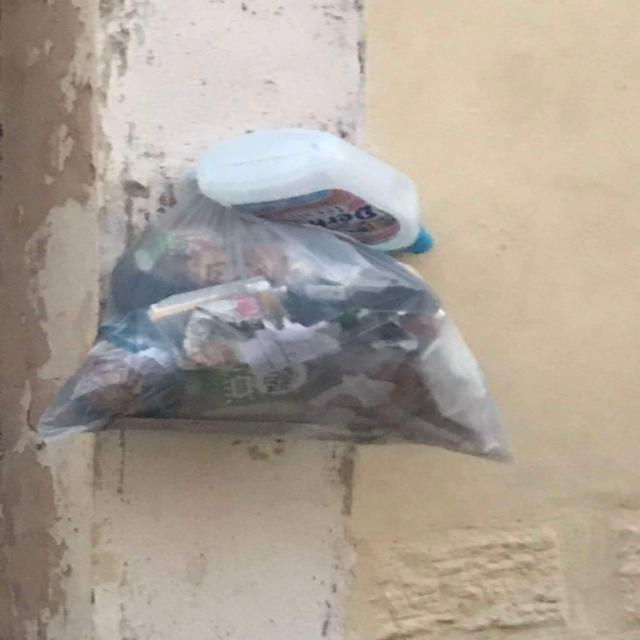Other: (201, 133, 436, 256)
Recycled Waste -Grey or Green Bag-: (37, 173, 518, 467)
